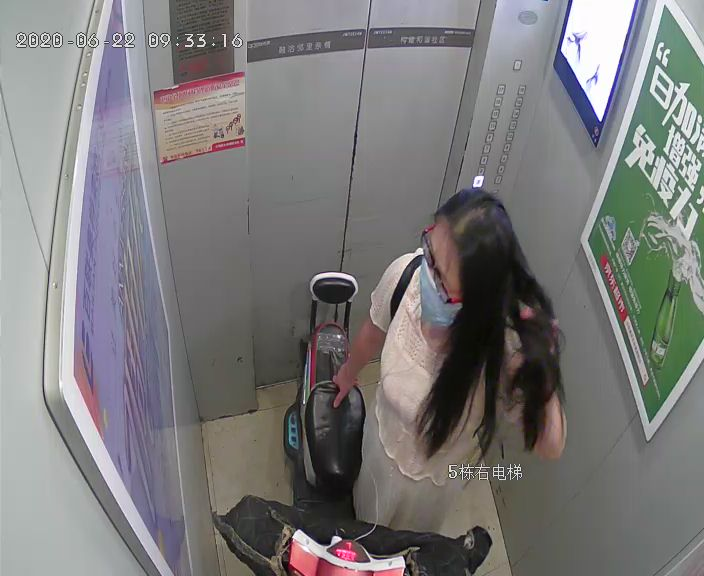Electric-bicycle: (215, 276, 488, 573)
